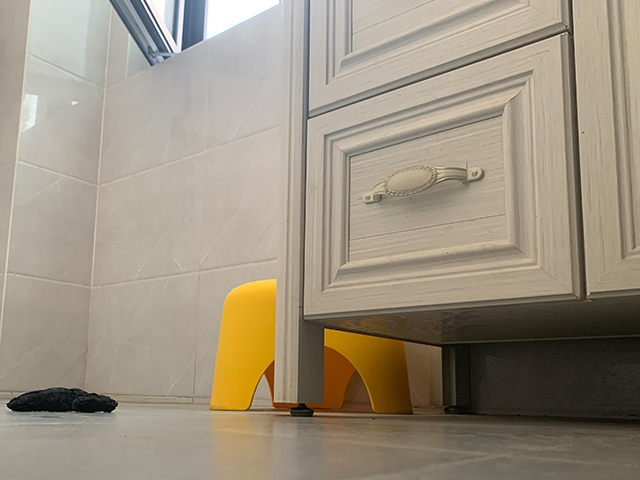cabinet: (272, 1, 640, 417)
feces: (6, 385, 120, 414)
stool: (207, 276, 415, 416)
